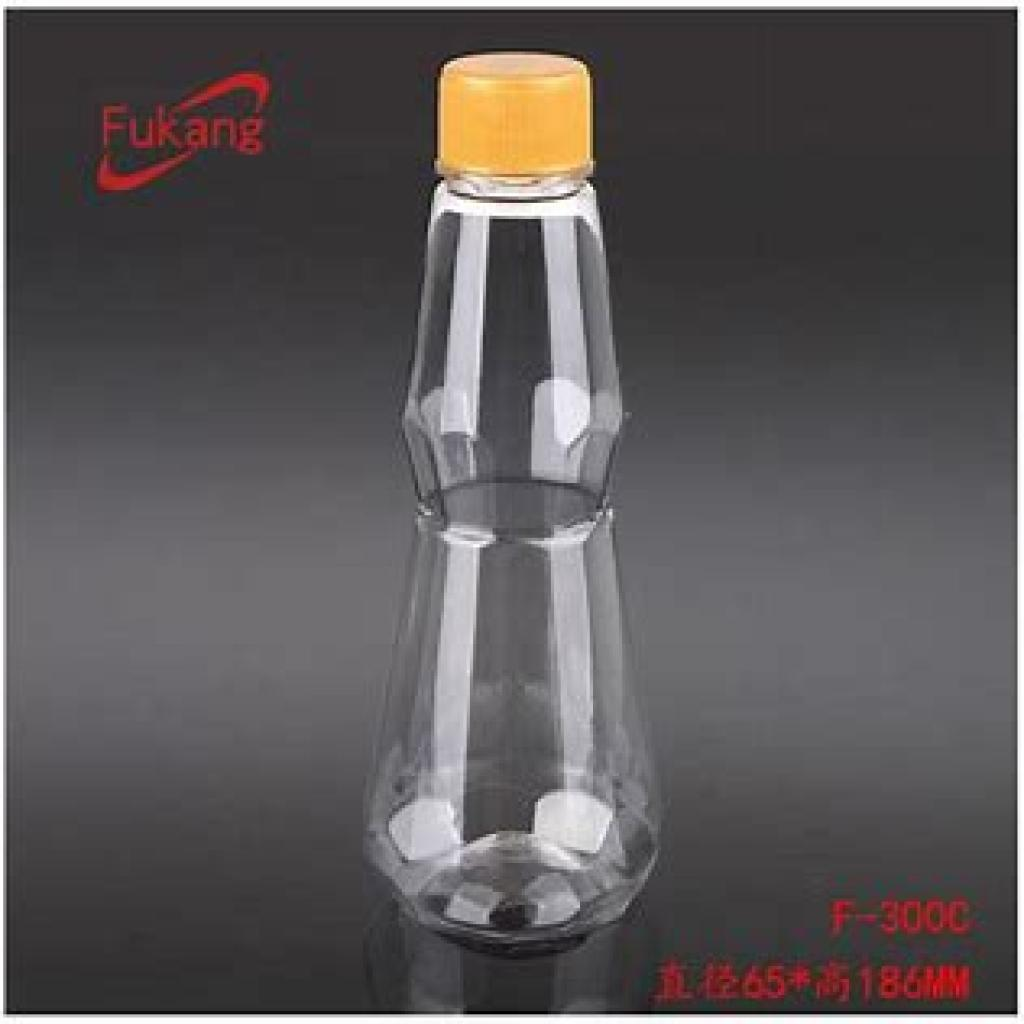plastic: (366, 32, 690, 954)
